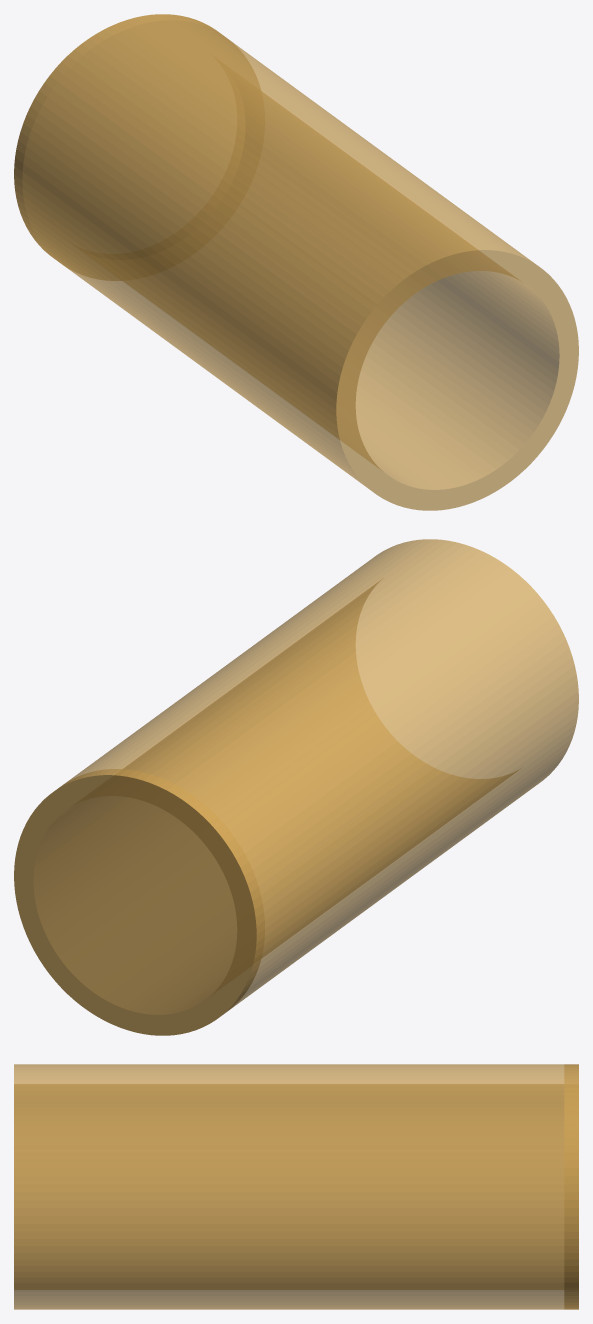
3 renders of one model, top to bottom at view 1: azimuth 30°, elevation 25°; view 2: azimuth 150°, elevation 25°; view 3: azimuth 270°, elevation 25°, orthographic. The views are drawn at different scales.
Visible parts, largest first — view 1: world; view 2: world; view 3: world.
Part boxes in pixels (x1,y1,x2,y2): world: (14,14,578,510); world: (14,539,578,1035); world: (14,1064,578,1309).
Size of the model in its own units: 0.05 by 0.05 by 0.115.
